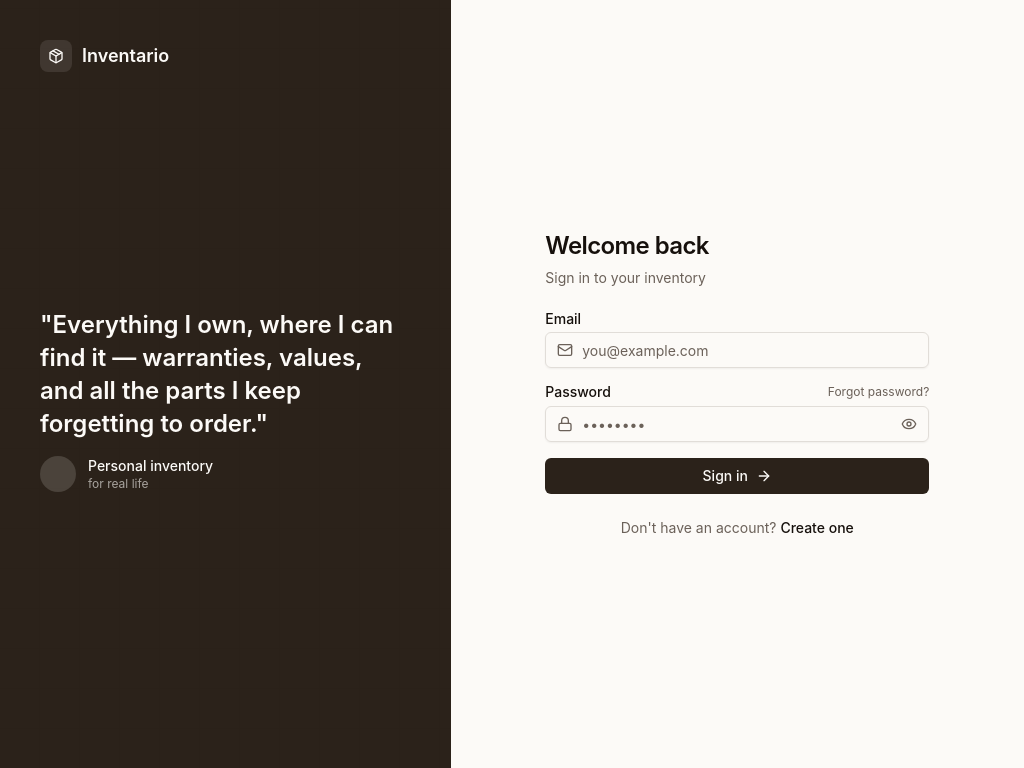
Test case: <LoginPage /> › surfaces the server error inline when the API returns 401
Type "alex@example.com" into the field with test id "email" at (737, 350), box 545,332 -> 929,368
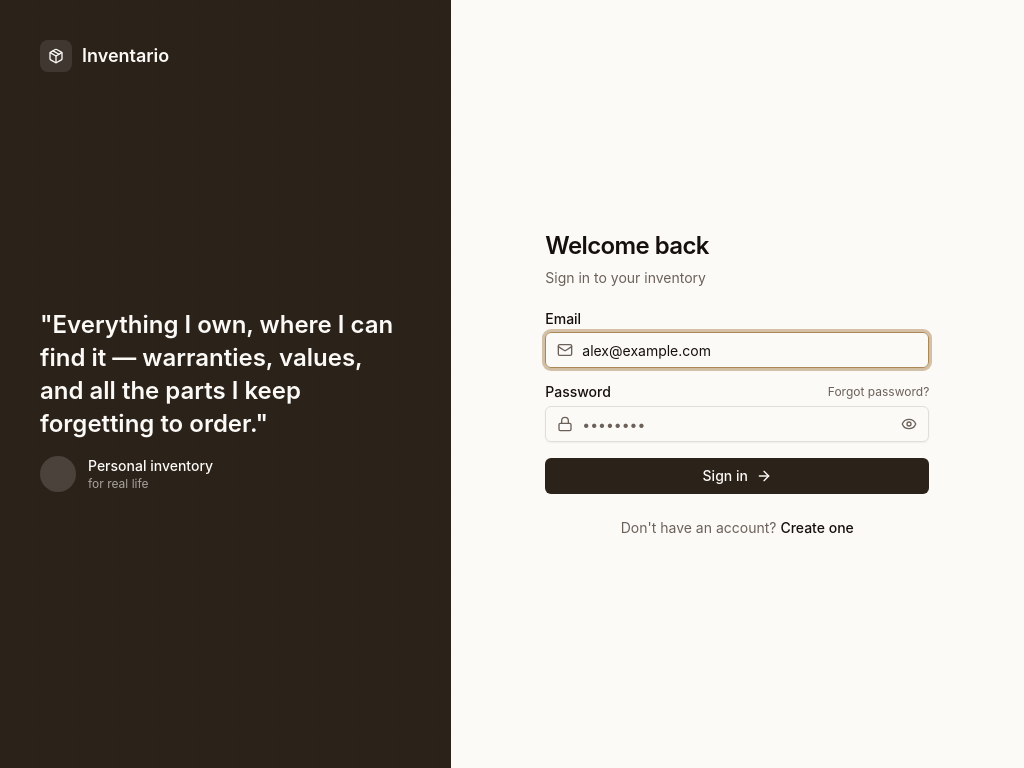
Type "wrong" into the password field with test id "password" at (737, 424), box 545,406 -> 929,442
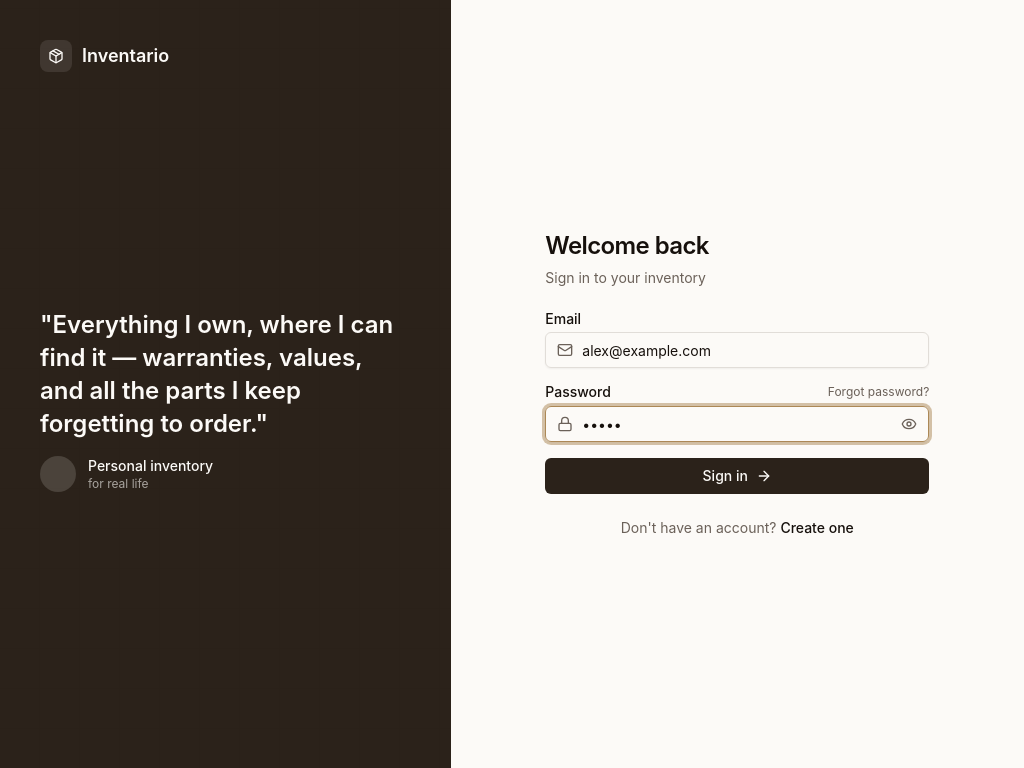
Click the button with test id "login-button" at (737, 476), box 545,458 -> 929,494
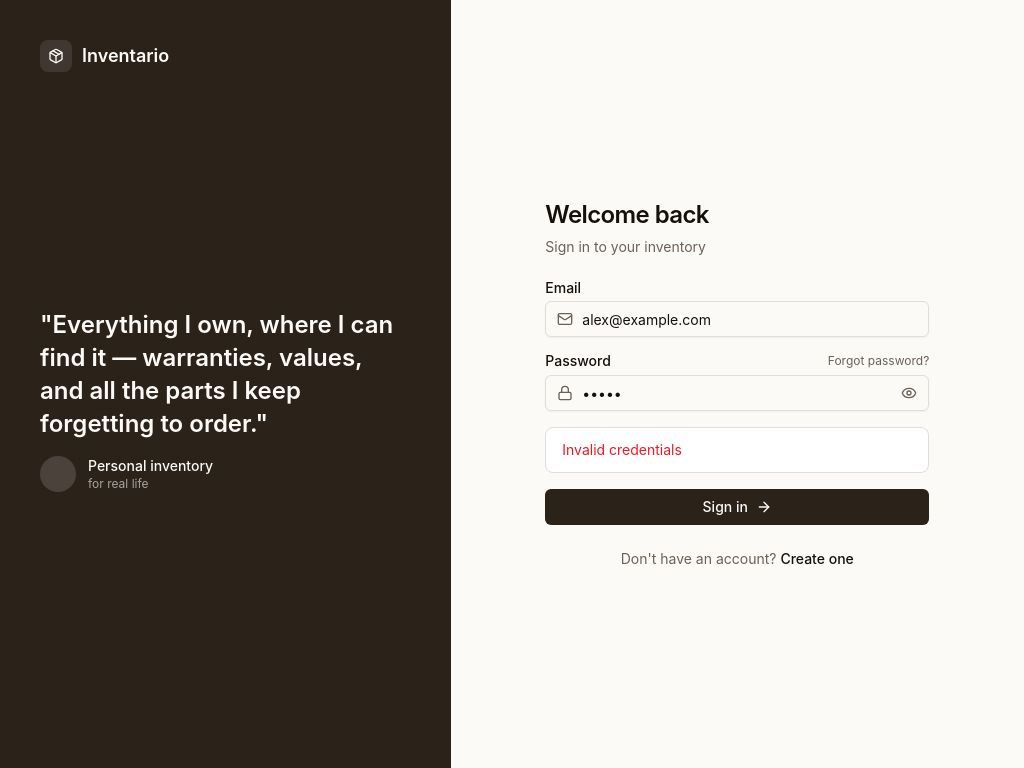
Expected: the message with test id "server-error" reads "Invalid credentials", 562,441 -> 682,458
